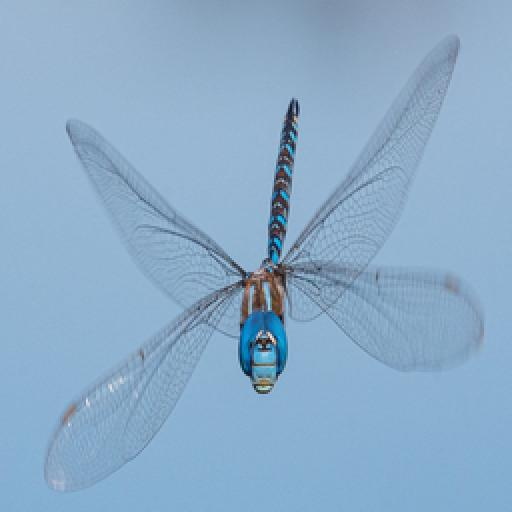insects: (18, 48, 485, 496)
